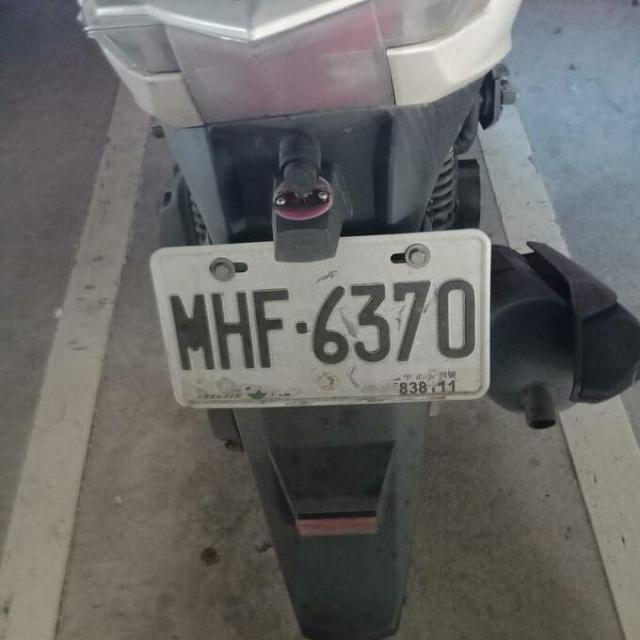W: (144, 220, 498, 422)
